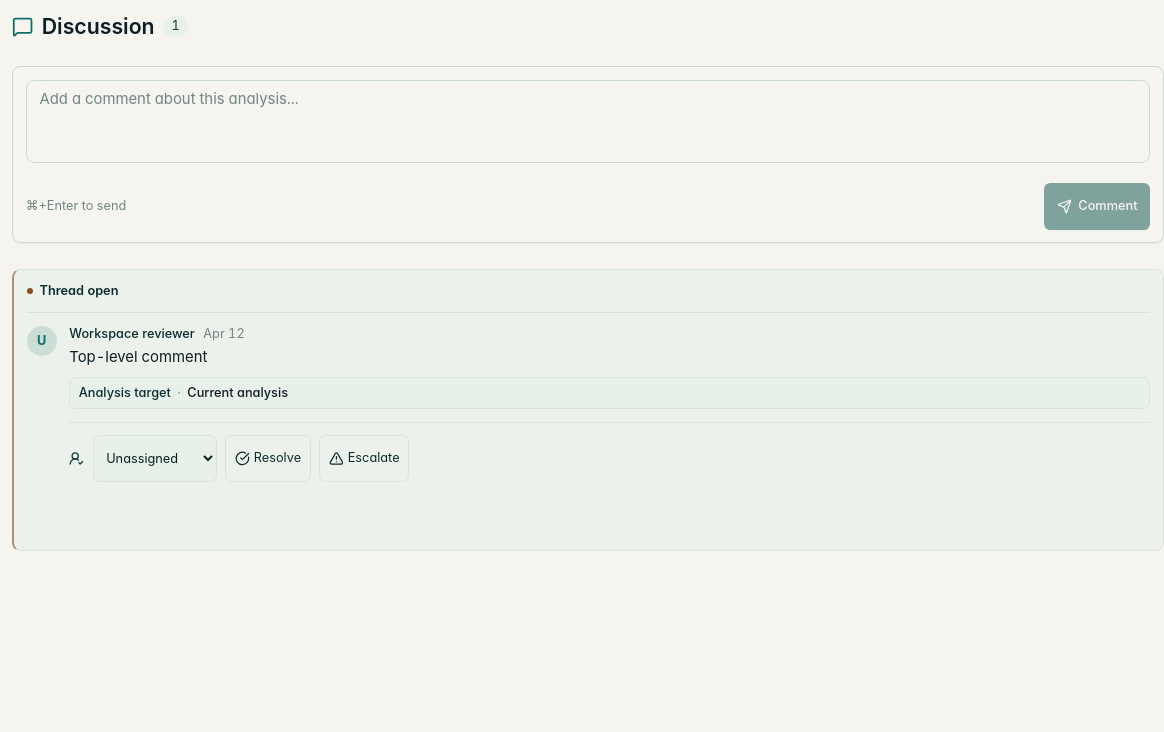
Test: CommentPanel review queue actions › invalidates review-queue queries after resolving a thread
Click the button "Resolve". click: [268, 459]
box: [225,435,311,482]
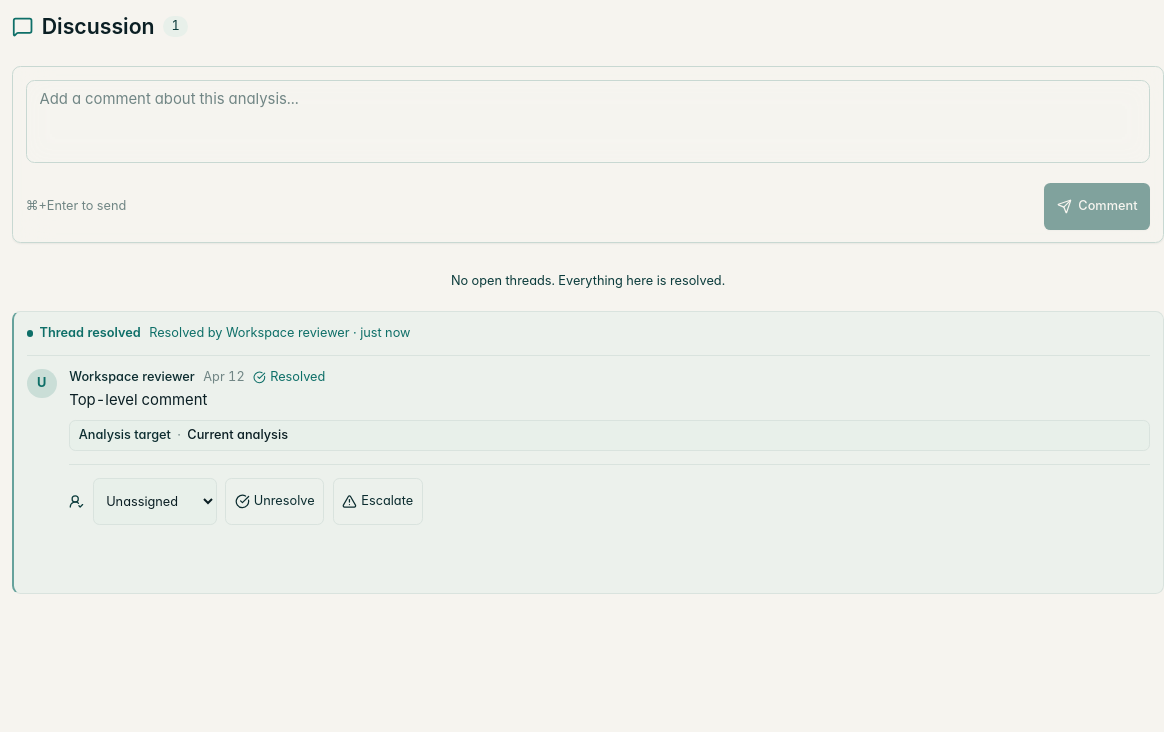
Check: the text "No open threads. Everything here is resolved." is shown, box [451,273,725,288]
